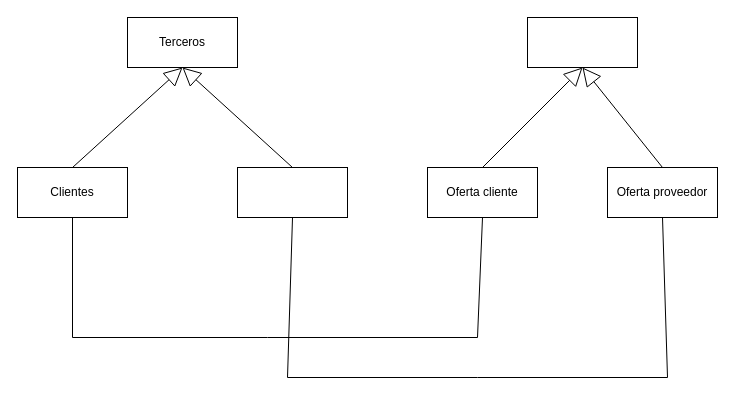
Some shapes in this 735 by 396 pixel diagram are drawn without their labels. Each missing label, with the box of its shape:
Presupuestos: (526, 16, 638, 68)
Proveedores: (236, 166, 348, 218)
